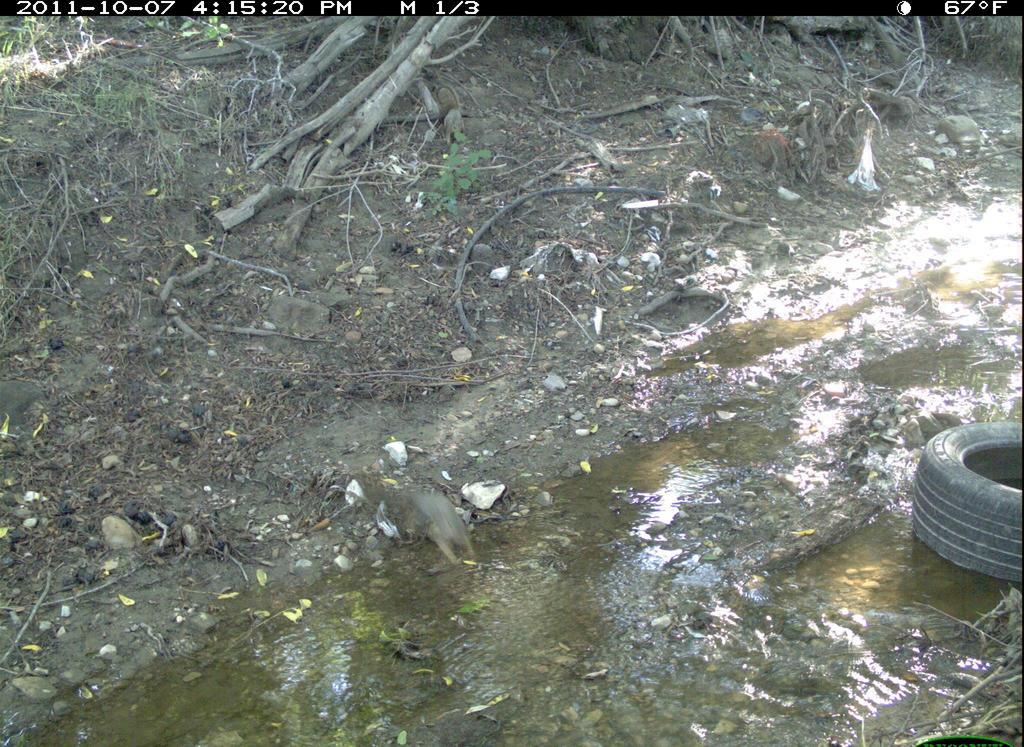squirrel: (371, 478, 477, 572)
